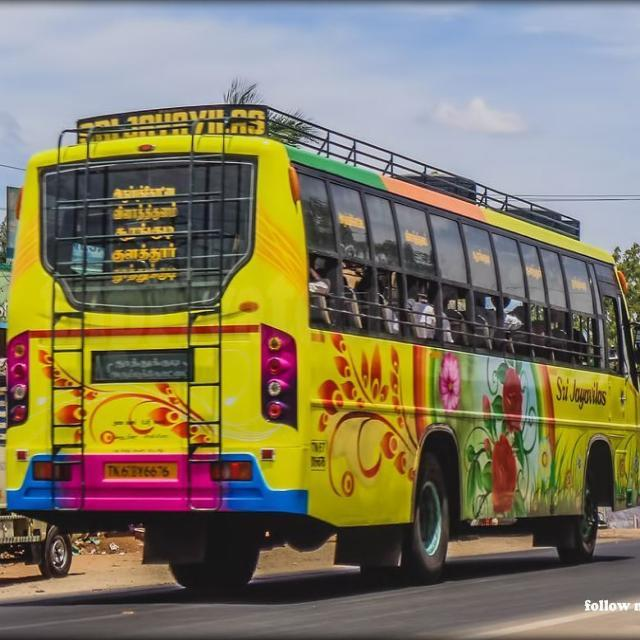Bus: (4, 103, 640, 586)
